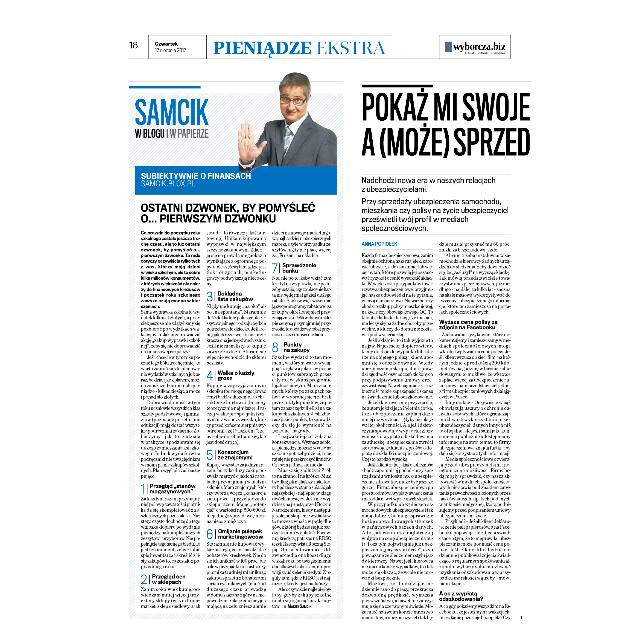article: (126, 78, 346, 620), (358, 79, 532, 622)
